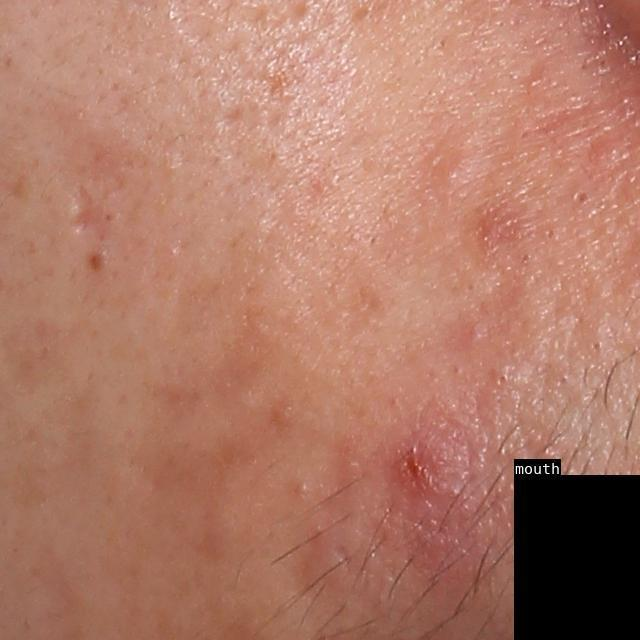atrophic_scar: (67, 183, 113, 248)
comedo: (491, 365, 513, 388), (572, 188, 594, 210), (588, 338, 606, 355)
papule: (388, 428, 478, 522)
